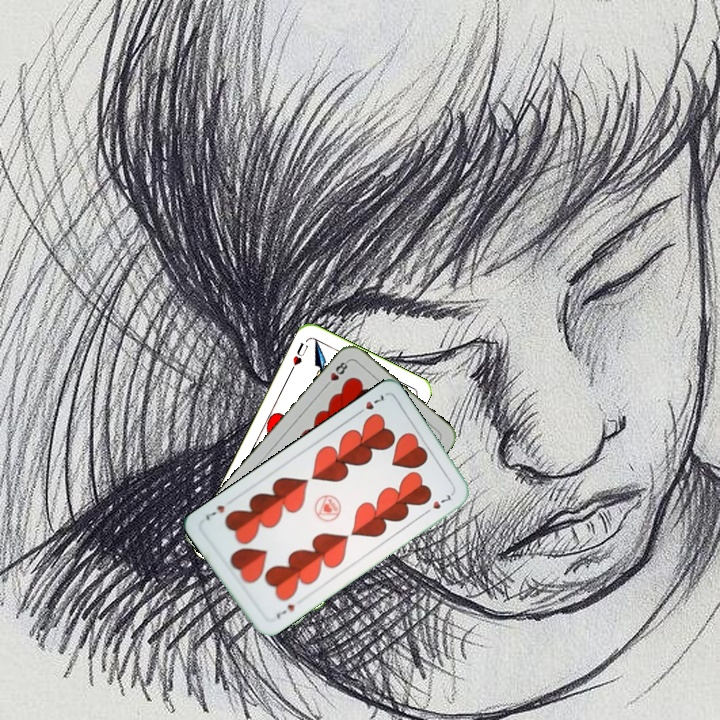H7: (352, 390, 388, 418), (272, 600, 297, 621)
H8: (321, 356, 351, 390)
HU: (286, 338, 311, 374)
